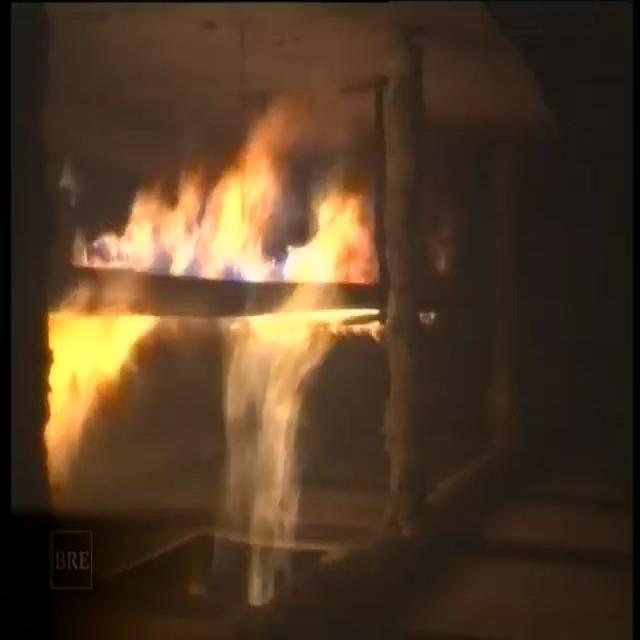Fire: (33, 86, 430, 598)
